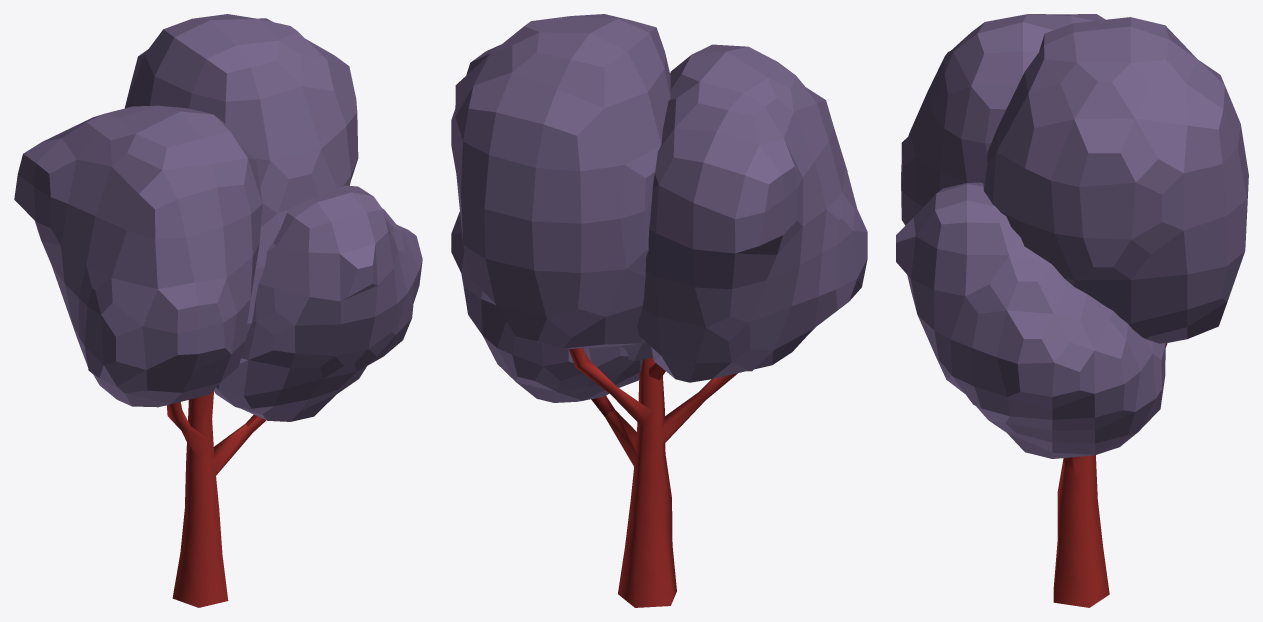
The model's file is TreeSample2.fbx.
The picture shows the model from 3 angles, left to right: view 1: azimuth 30°, elevation 25°; view 2: azimuth 150°, elevation 25°; view 3: azimuth 270°, elevation 25°; orthographic projection. The views are drawn at different scales.
Parts seen in each view (by area): view 1: Optimized; view 2: Optimized; view 3: Optimized.
Boxes of the visible parts, left/top/right/bottom form: Optimized: left=14, top=14, right=422, bottom=607; Optimized: left=451, top=14, right=867, bottom=607; Optimized: left=896, top=14, right=1248, bottom=607.
Bounding box in the file's own units: 590 × 704 × 1080.
